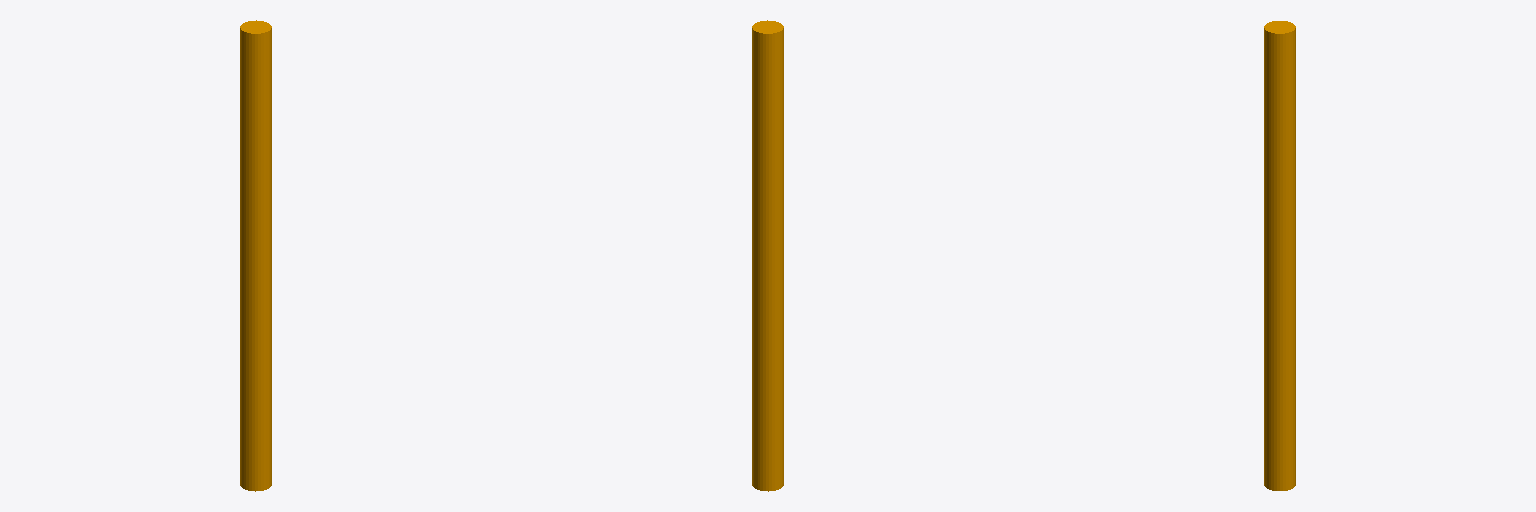
The robot description file, URDF, robot "pillar":
<?xml version='1.0' encoding='UTF-8'?>
<robot name="pillar">
    <link name="base_link">
        <inertial>
          <origin xyz="0.0 0.0 0.0" rpy="0.0 -0.0 0.0"/>
          <mass value="1.0"/>
          <inertia ixx="1.0" ixy="0.0" ixz="0.0" iyy="1.0" iyz="0.0" izz="1.0"/>
        </inertial>
        <visual name="base_link_visual">
            <origin xyz="0 0 0" rpy="0 0 0"/>
            <geometry>
                <cylinder radius="0.25" length="8"/>
            </geometry>
        </visual>
        <collision name="base_link_collision">
            <origin xyz="0 0 0" rpy="0 0 0"/>
            <geometry>
                <cylinder radius="0.25" length="8"/>
            </geometry>
        </collision>
    </link>
</robot>

--- What the picture shows (computed from the rendered views, not written in the file) ---
3 views of the same robot in one strip: view 1: azimuth 30°, elevation 25°; view 2: azimuth 150°, elevation 25°; view 3: azimuth 270°, elevation 25° (orthographic).
Robot: pillar — 1 links, 0 joints (none); root link base_link; default pose: every joint at zero.
Visible links, largest first — view 1: base_link; view 2: base_link; view 3: base_link.
Link boxes in pixels (<box>): base_link: <box>240,20,271,491</box>; base_link: <box>752,20,783,491</box>; base_link: <box>1264,21,1295,490</box>.
Size in the robot's own frame: 0.5 by 0.5 by 8 metres.
Geometry: primitives only (box / cylinder / sphere), no mesh files.